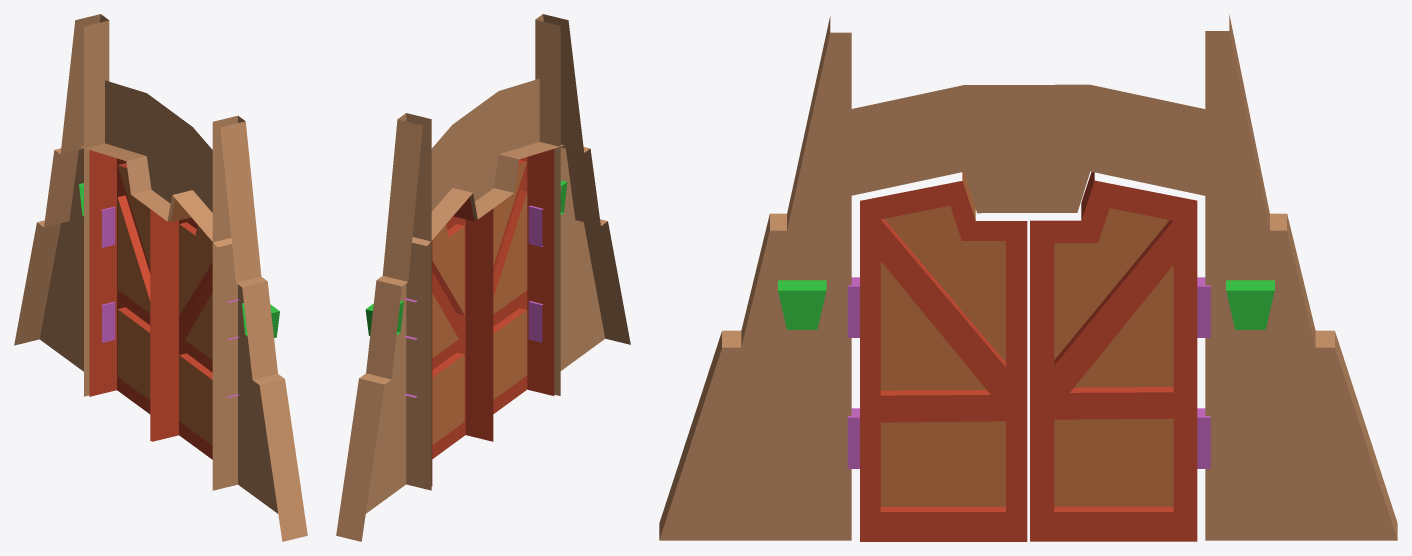
The model's file is jurasicdoor3.fbx.
The picture shows the model from 3 angles, left to right: view 1: azimuth 30°, elevation 25°; view 2: azimuth 150°, elevation 25°; view 3: azimuth 270°, elevation 25°; orthographic projection. The views are drawn at different scales.
Parts seen in each view (by area): view 1: Cube, Cube.001, Cube.003, Cube.004, Cube.002, Cube.008, Cube.007; view 2: Cube.001, Cube, Cube.004, Cube.003, Cube.002, Cube.005, Cube.006; view 3: Cube.004, Cube.003, Cube.001, Cube, Cube.002, Cube.010, Cube.009.
Boxes of the visible parts, x1,y1,x2,y2 form: Cube: (212,115,307,541); Cube.001: (14,14,109,396); Cube.003: (152,199,212,459); Cube.004: (89,150,151,441); Cube.002: (81,80,231,247); Cube.008: (101,206,115,247); Cube.007: (101,301,115,342); Cube.001: (336,113,431,541); Cube: (535,14,630,395); Cube.004: (431,197,493,486); Cube.003: (493,149,554,413); Cube.002: (412,78,564,245); Cube.005: (528,205,543,246); Cube.006: (528,301,542,342); Cube.004: (1030,172,1197,541); Cube.003: (860,172,1027,541); Cube.001: (1205,14,1397,540); Cube: (659,16,851,540); Cube.002: (851,84,1205,213); Cube.010: (1226,280,1274,329); Cube.009: (778,280,826,329).
Size of the model in its own units: 114 by 986 by 1295.
